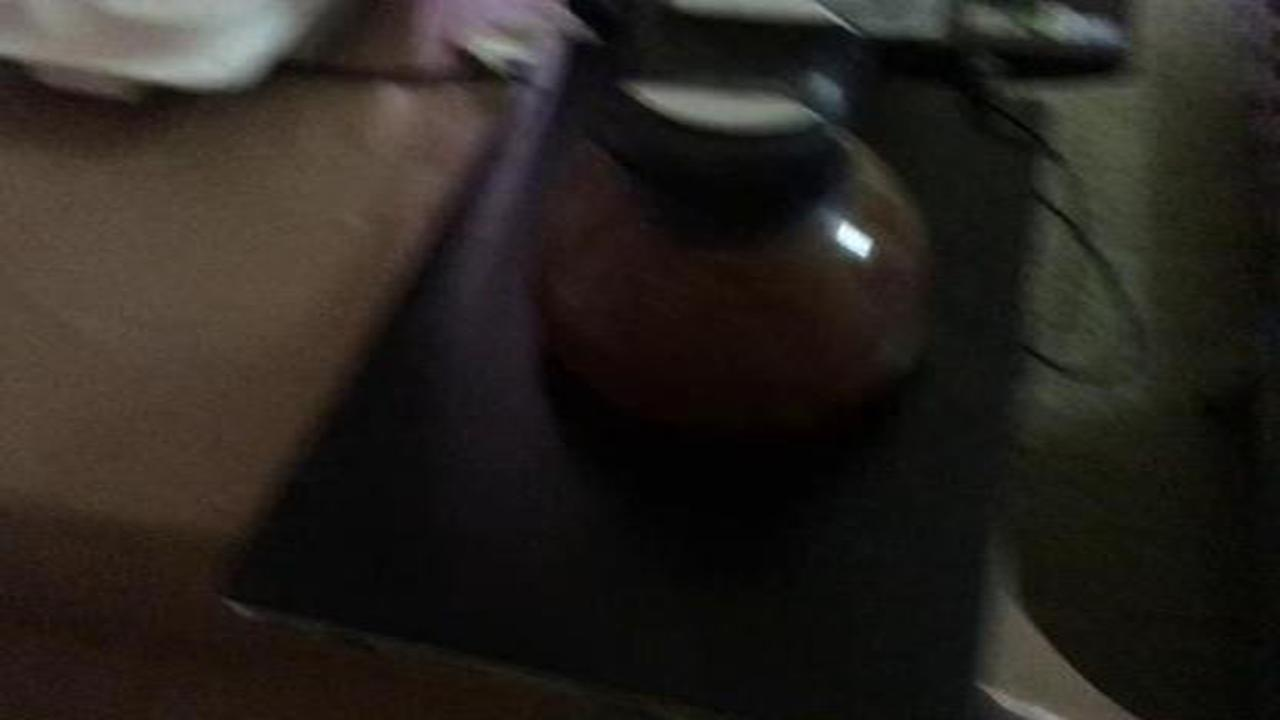insulator_pin: (499, 21, 951, 461)
